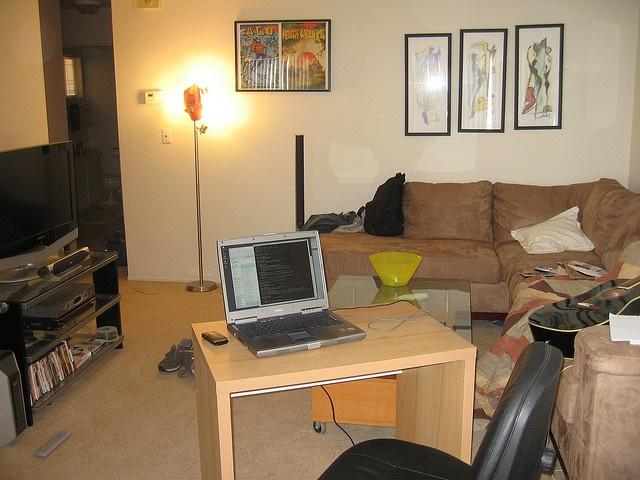AIO PC-Monitor-TV: (0, 139, 80, 271)
Kursi: (314, 340, 564, 479)
Meja: (190, 299, 476, 430)
